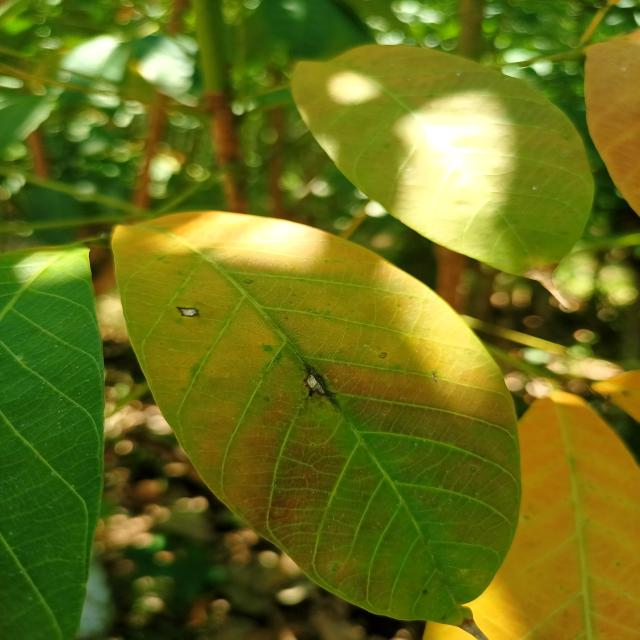Colletotrichum: (177, 306, 199, 317), (379, 352, 387, 358)
Corynespora: (304, 364, 338, 406)
Leaf-Blight: (522, 264, 567, 308), (458, 618, 488, 640)
